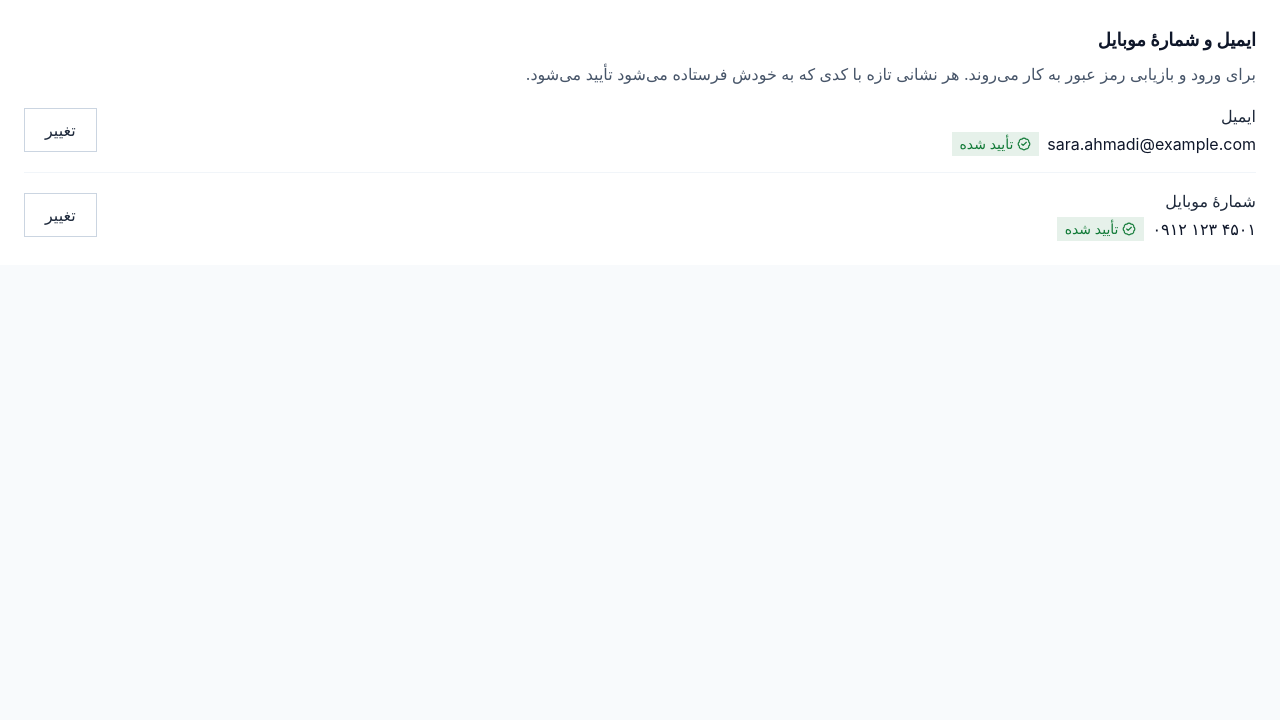
Test: the proof a change asks for (§4.17) › replacing a verified email of an account with a password: the current password
Click the button with aria-label "ایمیل": [60, 130] box [24,108,97,152]
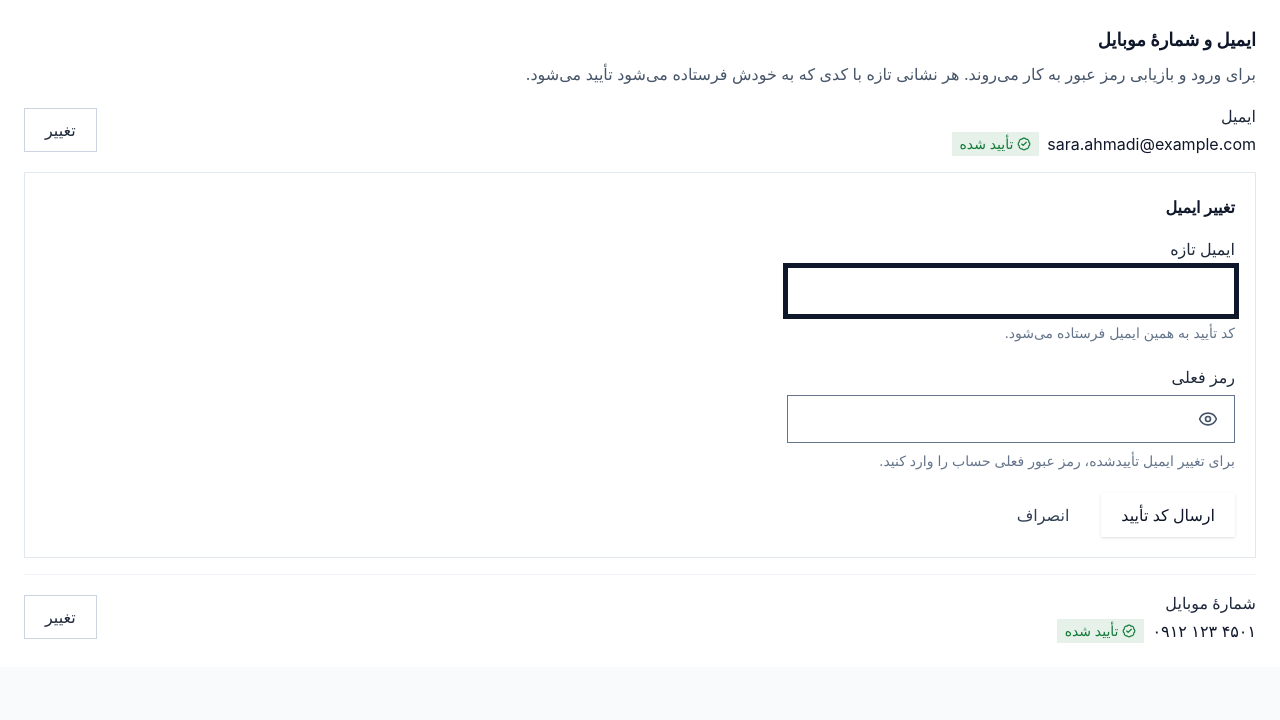
Check: the field labelled "ایمیل تازه" is shown, box [788,268,1234,314]
